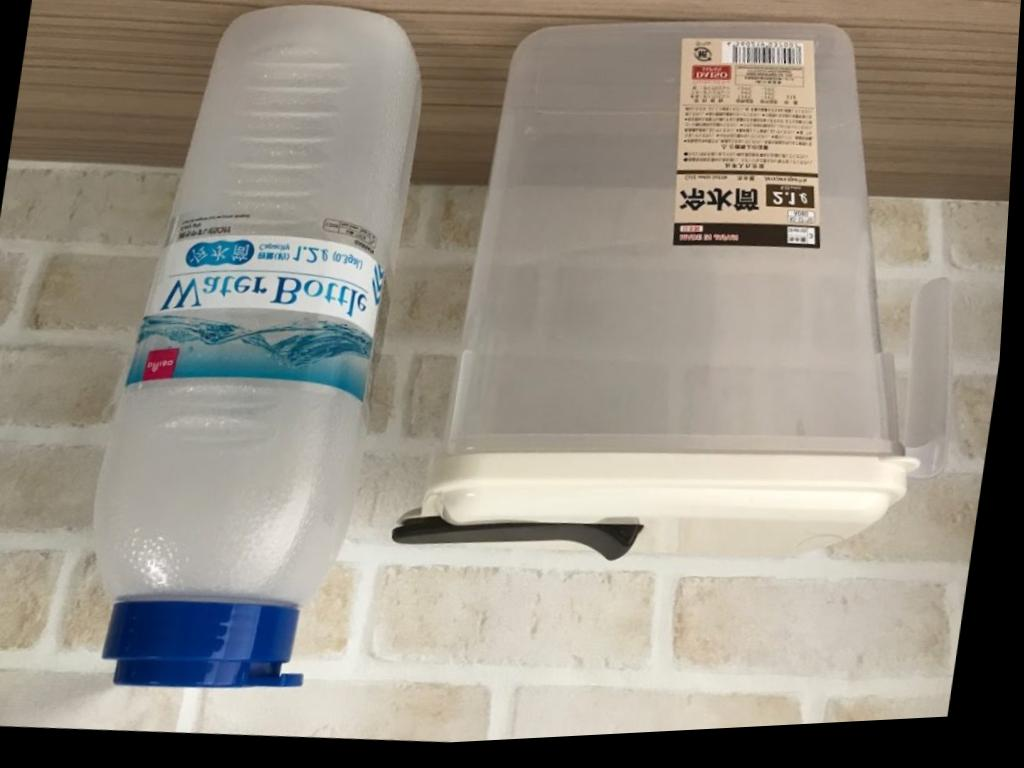plastic: (383, 0, 974, 599), (70, 0, 439, 716)
